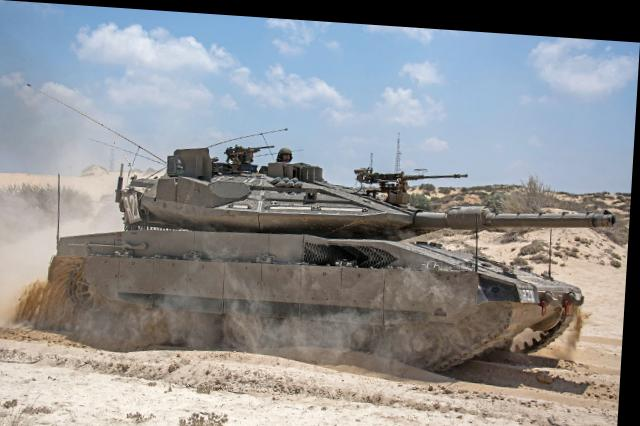other: (268, 131, 303, 178)
tank: (51, 125, 601, 368)
